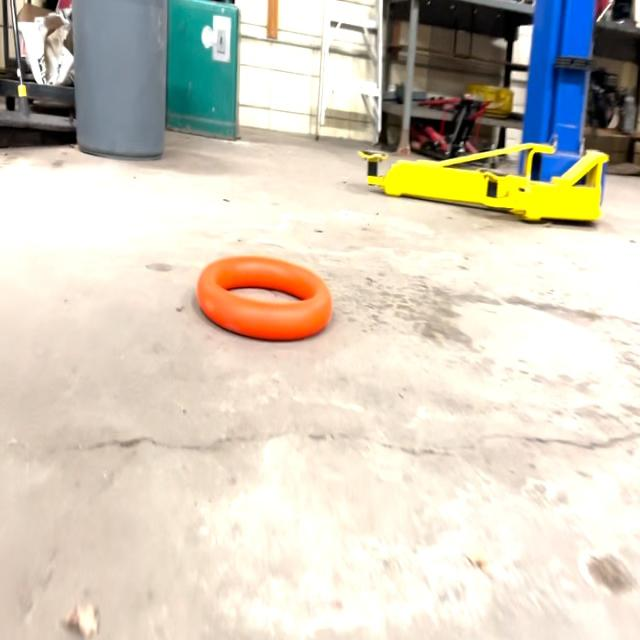note: (194, 253, 334, 341)
